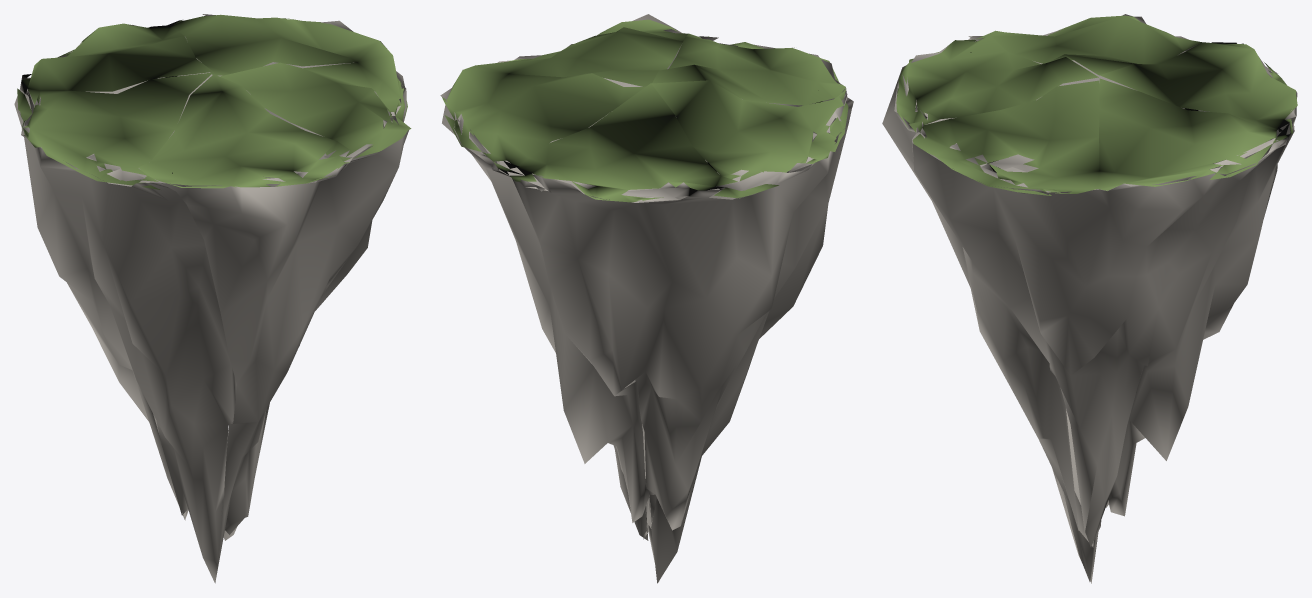
Rendered from island_bare_lo.glb.
3 renders of one model, left to right at view 1: azimuth 30°, elevation 25°; view 2: azimuth 150°, elevation 25°; view 3: azimuth 270°, elevation 25°, orthographic.
Parts seen in each view (by area): view 1: Island; view 2: Island; view 3: Island.
Boxes of the visible parts, <box> form: Island: <box>14,14,411,583</box>; Island: <box>440,14,853,583</box>; Island: <box>882,14,1297,583</box>.
Bounding box in the file's own units: 2.04 × 2.78 × 2.04.
